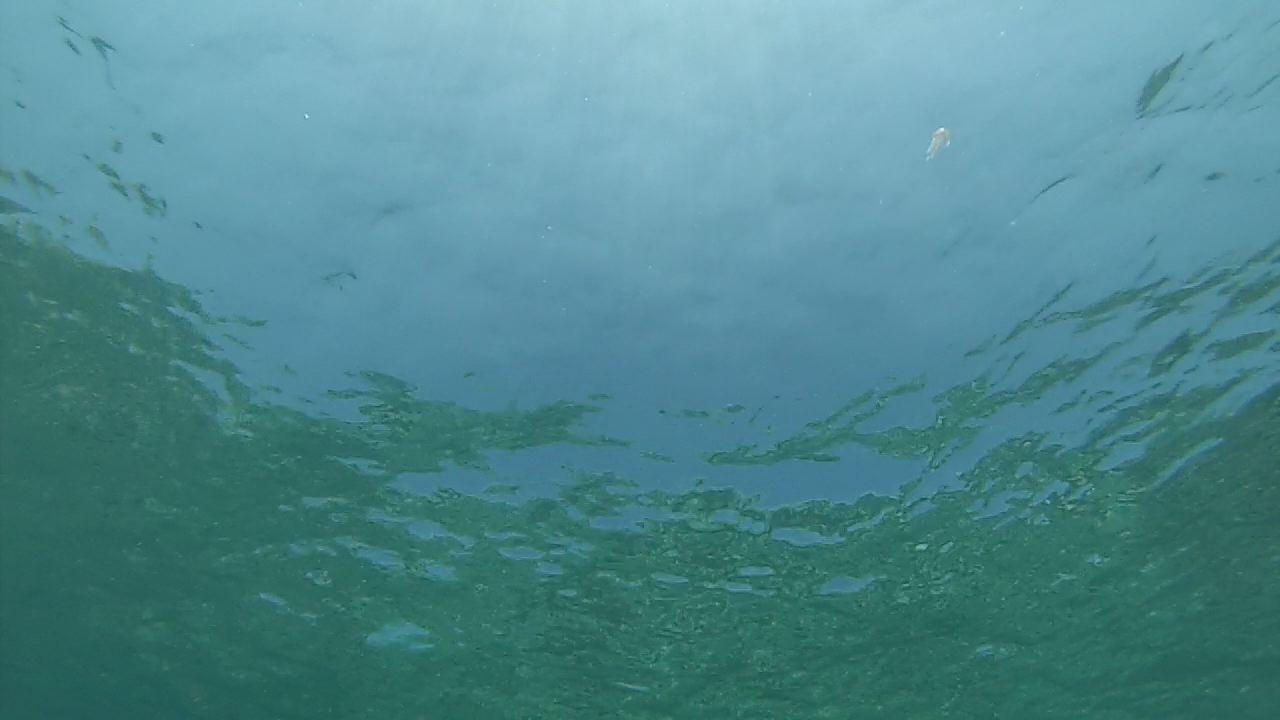pelagia: (924, 125, 954, 166)
